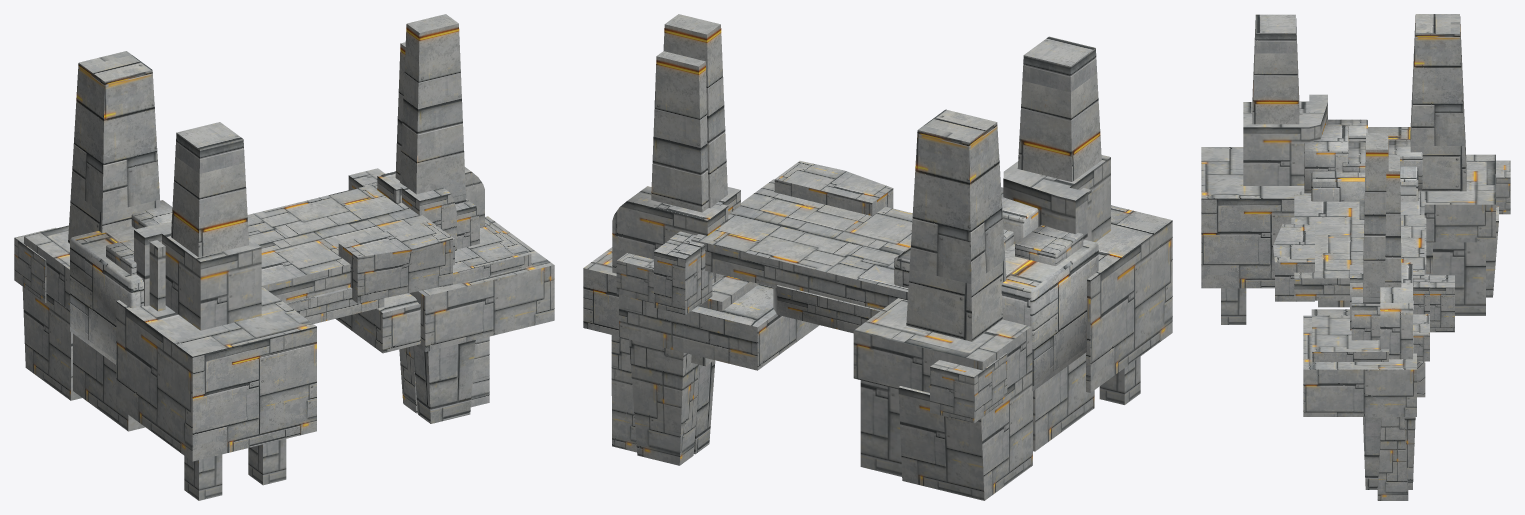
Rendered from bldg_triple_tower_basic_new.glb.
3 renders of one model, left to right at view 1: azimuth 30°, elevation 25°; view 2: azimuth 150°, elevation 25°; view 3: azimuth 270°, elevation 25°, orthographic. The views are drawn at different scales.
Parts seen in each view (by area): view 1: 13.0.114.001; view 2: 13.0.114.001; view 3: 13.0.114.001.
Part boxes in pixels (x1,y1,x2,y2): 13.0.114.001: [14, 14, 554, 500]; 13.0.114.001: [583, 14, 1172, 500]; 13.0.114.001: [1201, 14, 1510, 500].
Bounding box in the file's own units: 2.03 × 1.81 × 1.51.
Materials: 35 (35 with a texture image).
